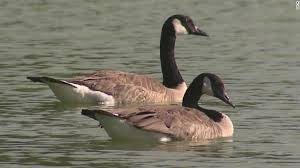goose: (21, 13, 209, 108), (79, 73, 236, 144)
